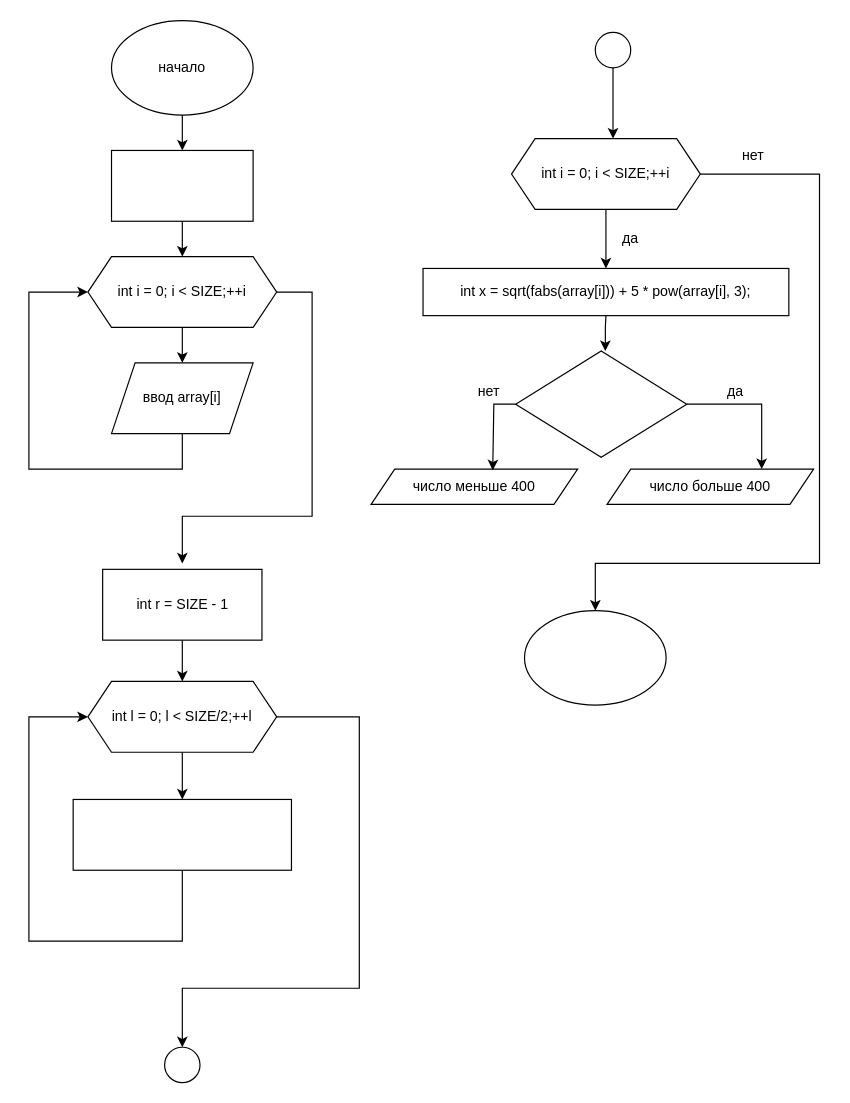
The diagram is 850 pixels wide and 1103 high, and some of its shapes have lost their labels. Each missing label, with the centre of its shape:
const int SIZE = 11; int array [11];: (x=181, y=185)
int temp = arr [l]; arr [l] = arr[r]; arr[r]=temp; --r;: (x=181, y=834)
x > 400: (x=600, y=403)
конец: (x=594, y=657)
